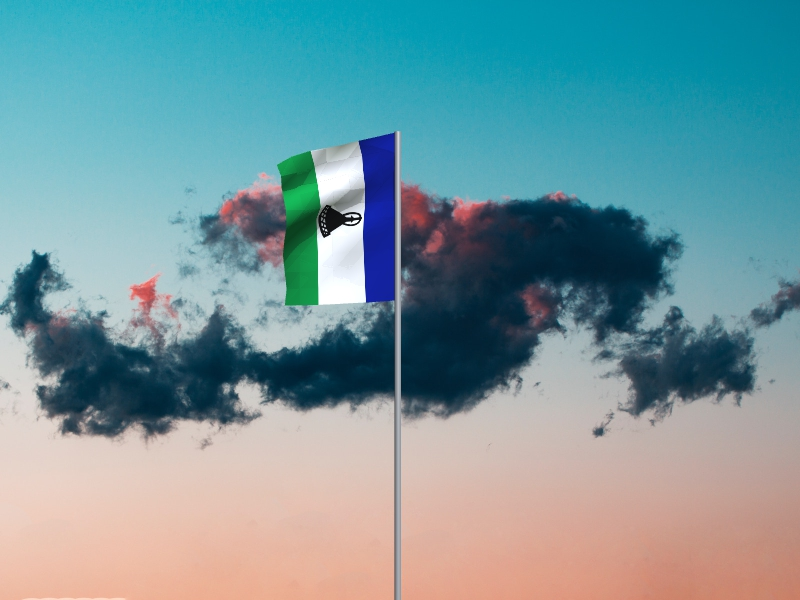ls: (276, 133, 395, 307)
